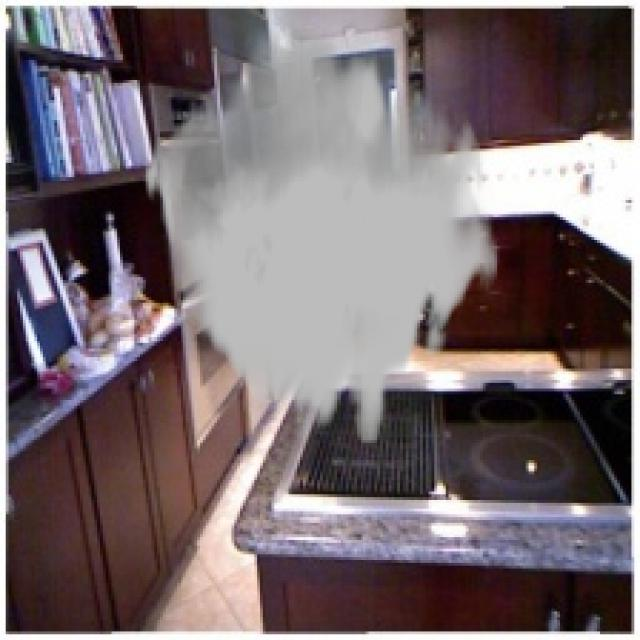smoke: (143, 28, 500, 443)
